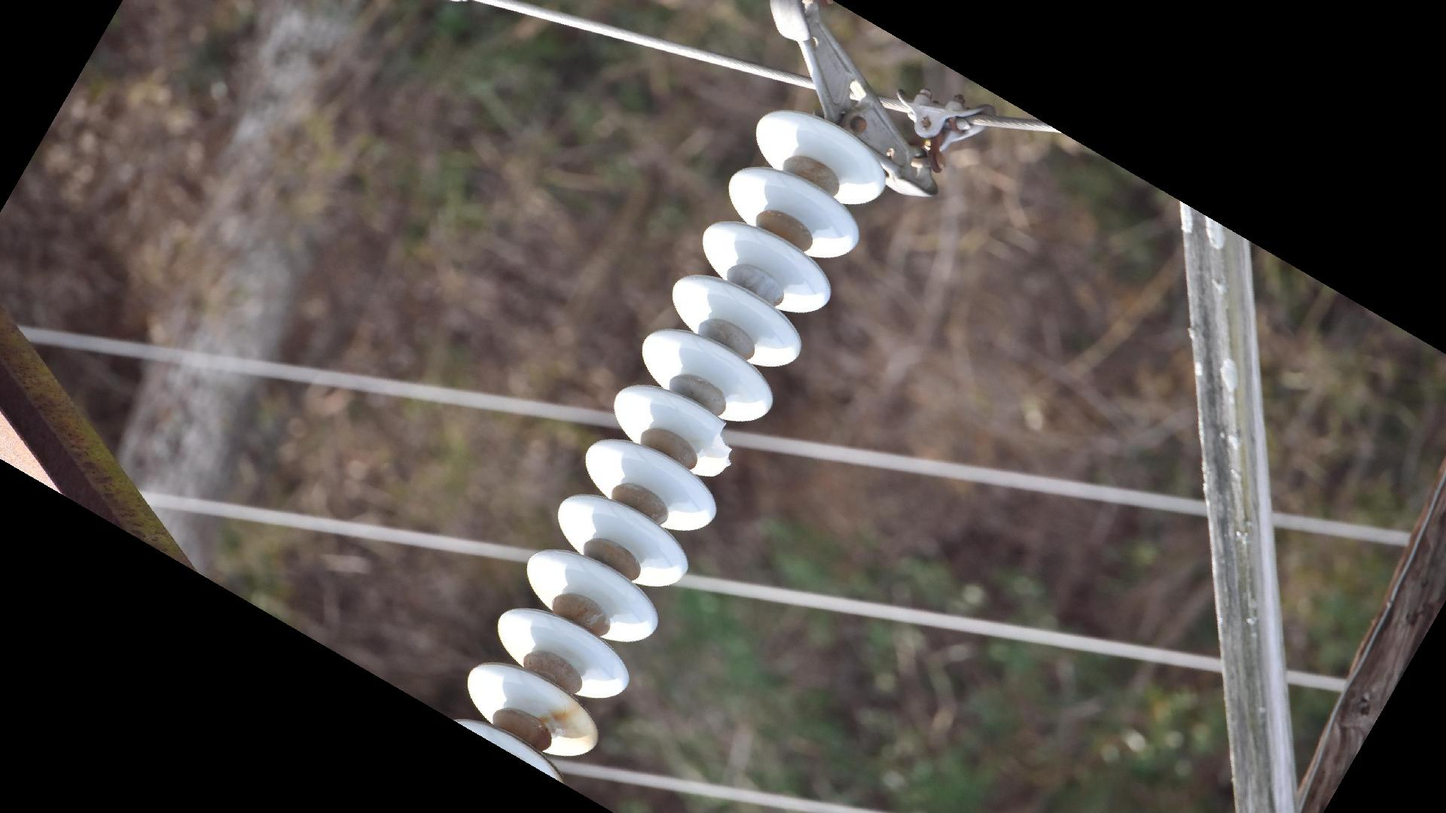insulator: (452, 104, 892, 790)
insulator_breakage: (703, 416, 740, 482)
